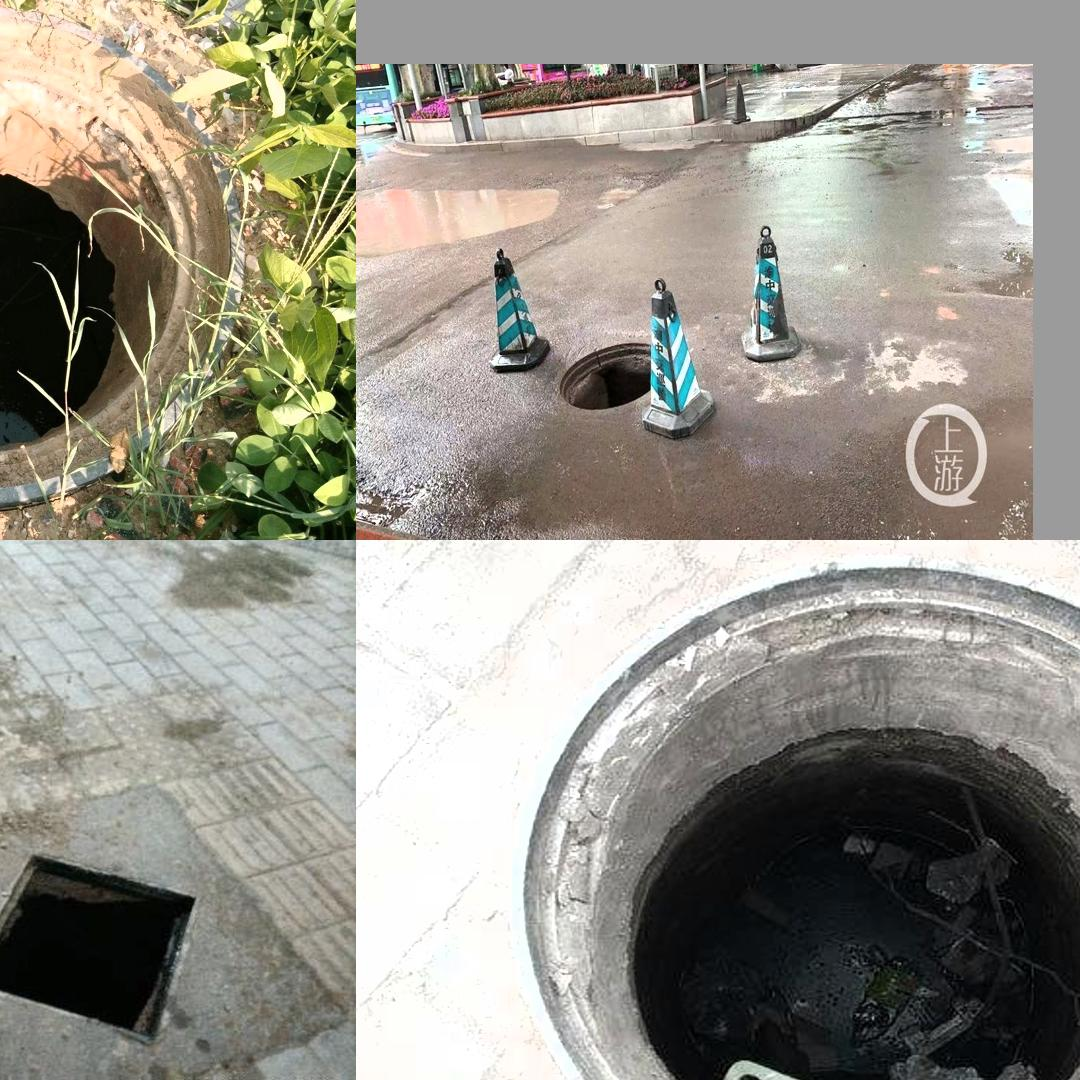lose: (509, 552, 1080, 1080), (0, 4, 240, 507), (0, 852, 208, 1041), (553, 321, 673, 420)
